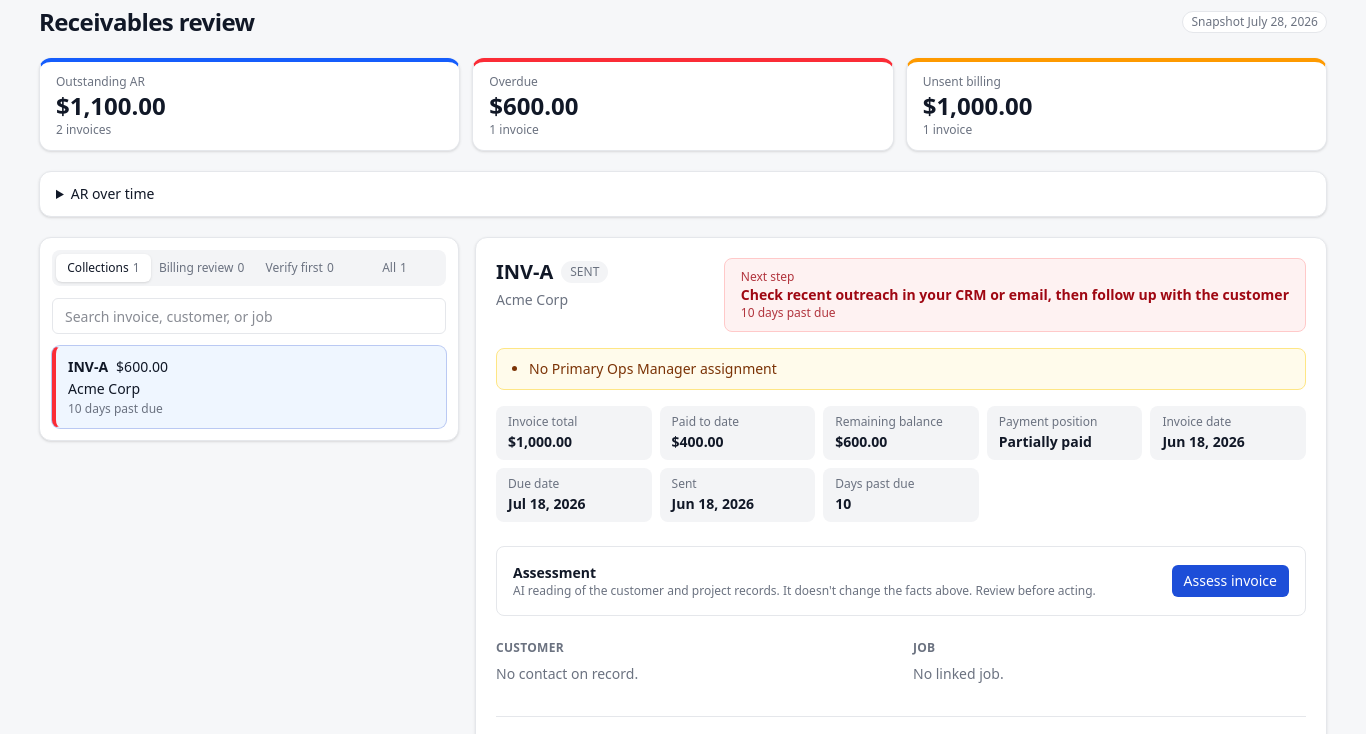
it: balance details show the total, counted payments, and remaining balance
Click the button "INV-A $600.00 Acme Corp 10 days past due".
click(88, 366)  # box [52,346,446,428]
(page scrolled)
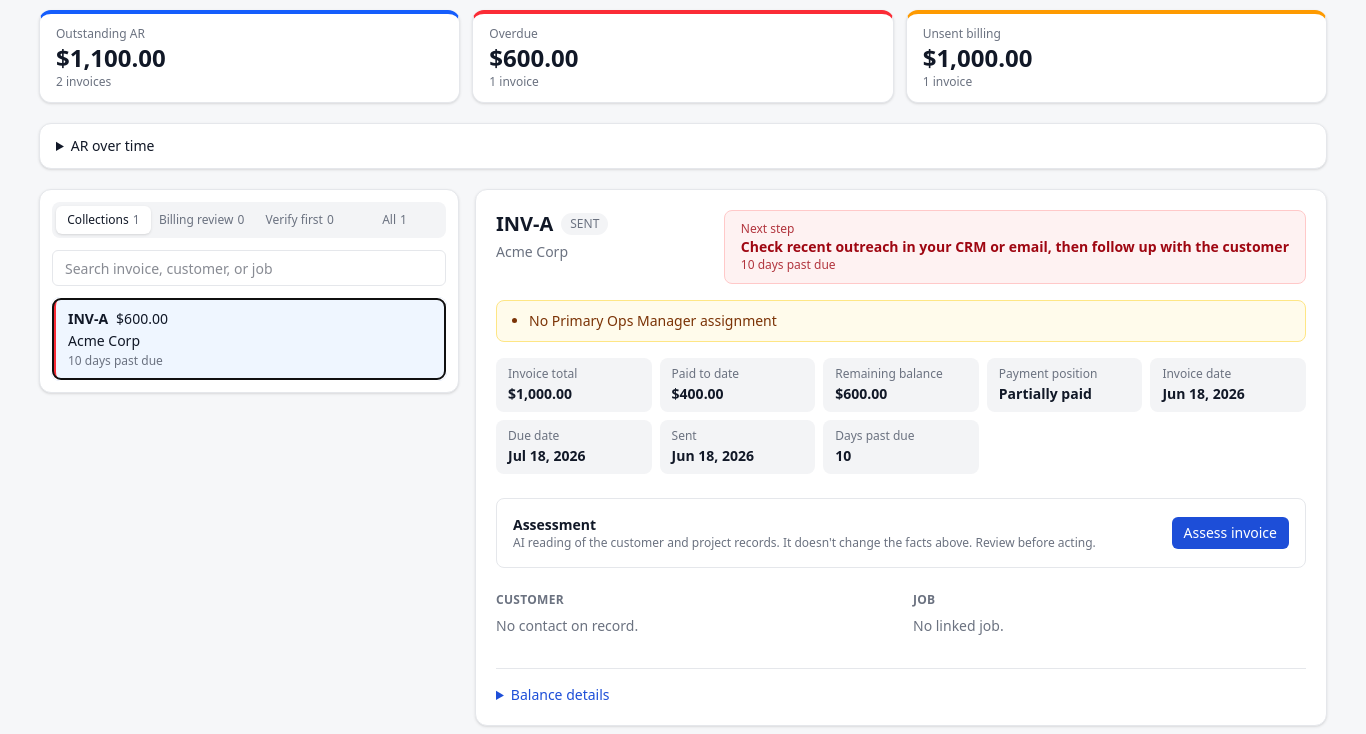
Click the heading "Balance details".
click(560, 694)  # box [511,685,610,704]
(page scrolled)
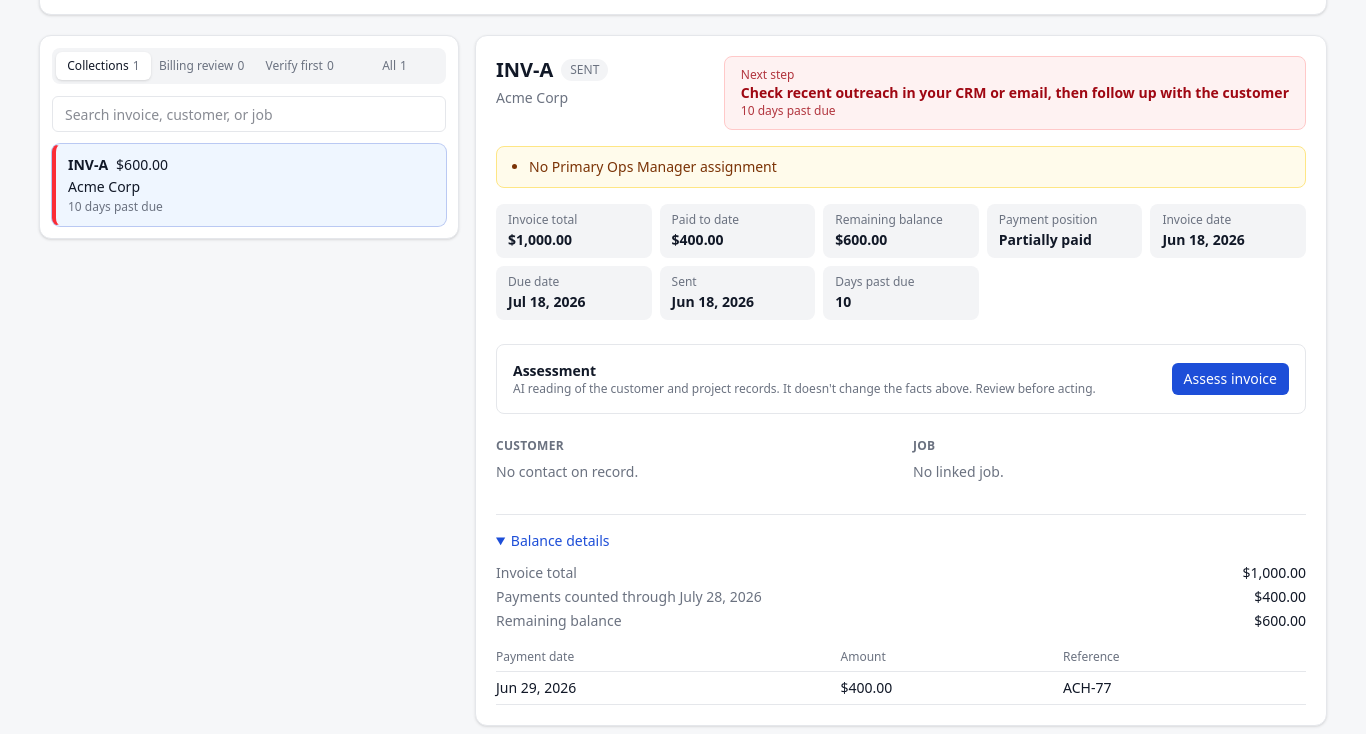
Check: the 2nd text "$1,000.00" is shown, box [1242,563,1306,583]
Check: the text "$400.00" in the row of "Payments counted through July 28, 2026" is shown, box [1254,587,1306,606]
Check: the 3rd text "$600.00" is shown, box [1254,611,1306,630]
